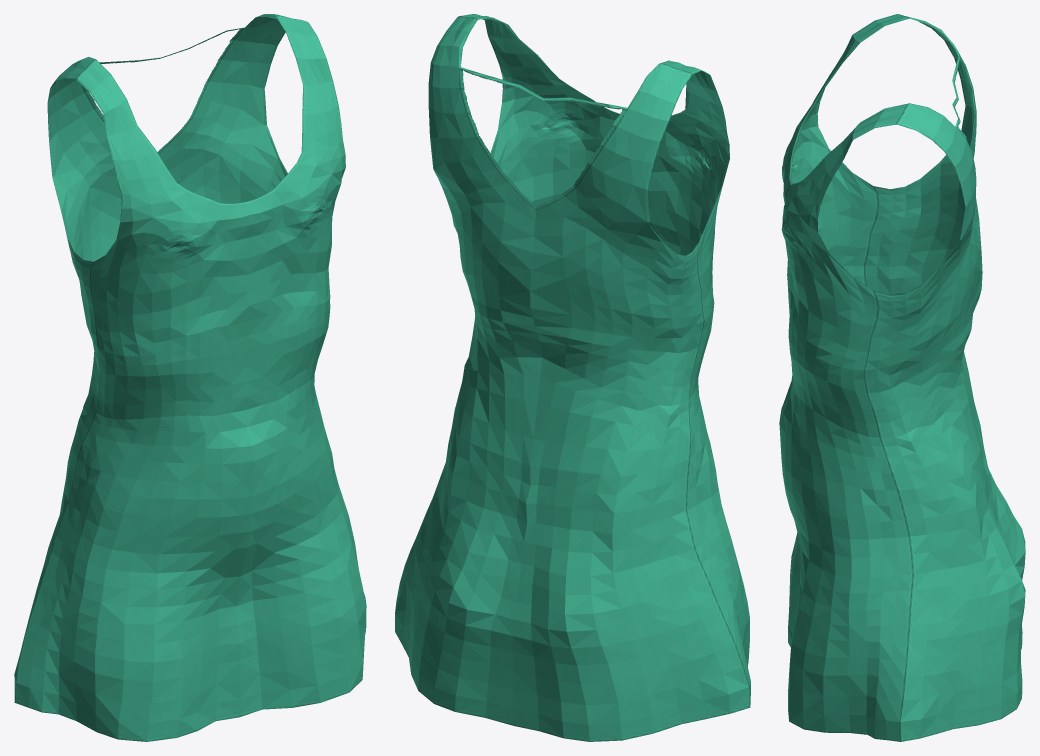
The model's file is mhw_mindfront_f_dress_02.glb.
3 views of the same model, side by side, from view 1: azimuth 30°, elevation 25°; view 2: azimuth 150°, elevation 25°; view 3: azimuth 270°, elevation 25° (orthographic). The views are drawn at different scales.
Visible parts, largest first — view 1: mhw_mindfront_f_dress_02; view 2: mhw_mindfront_f_dress_02; view 3: mhw_mindfront_f_dress_02.
Boxes of the visible parts, bbox=[...] form: mhw_mindfront_f_dress_02: bbox=[14, 14, 366, 741]; mhw_mindfront_f_dress_02: bbox=[395, 14, 750, 741]; mhw_mindfront_f_dress_02: bbox=[779, 14, 1025, 741].
Size of the model in its own units: 0.5109 by 0.8914 by 0.3213.
1 material, 1 textured.
